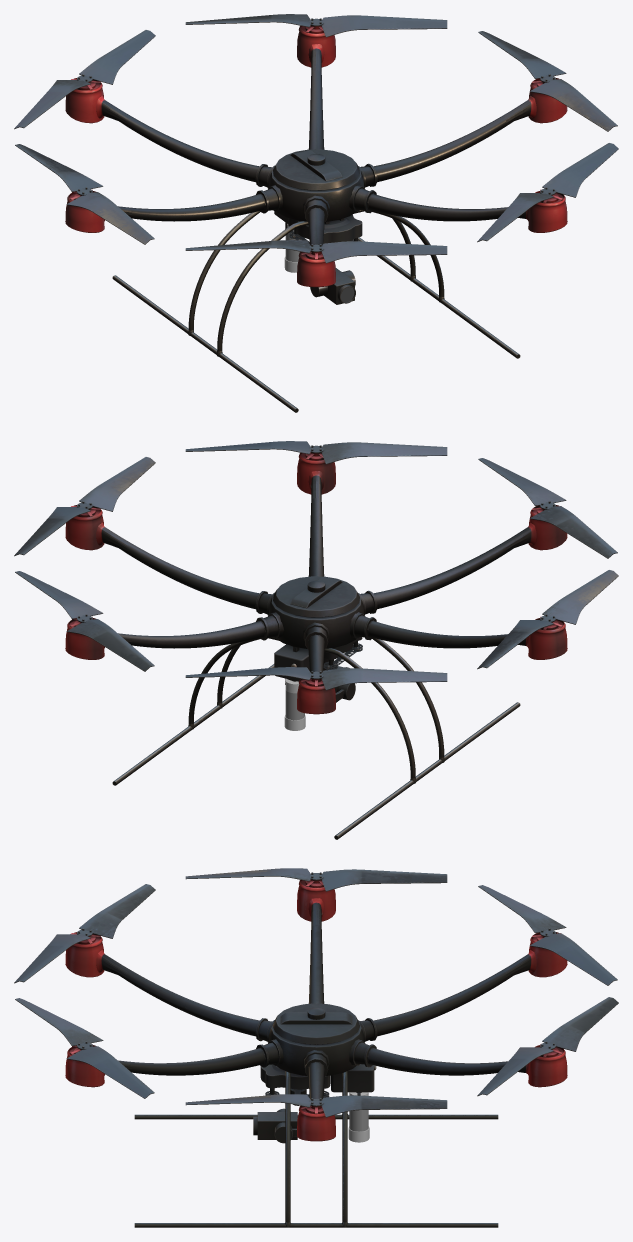
Rendered from drone.glb.
3 renders of one model, top to bottom at view 1: azimuth 30°, elevation 25°; view 2: azimuth 150°, elevation 25°; view 3: azimuth 270°, elevation 25°, orthographic.
Visible parts, largest first — view 1: LJWRJ_F05:separated_16, separated_06, separated_31, separated_81, separated_18, separated_33, separated_15, GLASS:pCylinder1; view 2: LJWRJ_F05:separated_16, separated_33, separated_15, separated_31, separated_06, separated_18, separated_81; view 3: LJWRJ_F05:separated_16, separated_18, separated_81, separated_15, separated_33, separated_31, separated_06, GLASS:pCylinder1.
Boxes of the visible parts, bbox=[...] form: LJWRJ_F05:separated_16: bbox=[65, 25, 567, 412]; separated_06: bbox=[185, 240, 447, 263]; separated_31: bbox=[185, 14, 447, 37]; separated_81: bbox=[15, 144, 154, 244]; separated_18: bbox=[478, 31, 617, 131]; separated_33: bbox=[14, 30, 155, 129]; separated_15: bbox=[477, 143, 618, 242]; GLASS:pCylinder1: bbox=[324, 268, 355, 304]; LJWRJ_F05:separated_16: bbox=[65, 452, 567, 839]; separated_33: bbox=[185, 667, 447, 690]; separated_15: bbox=[185, 441, 447, 464]; separated_31: bbox=[15, 571, 154, 671]; separated_06: bbox=[478, 458, 617, 558]; separated_18: bbox=[14, 457, 155, 556]; separated_81: bbox=[477, 570, 618, 669]; LJWRJ_F05:separated_16: bbox=[65, 879, 567, 1227]; separated_18: bbox=[185, 1094, 447, 1117]; separated_81: bbox=[185, 868, 447, 891]; separated_15: bbox=[15, 998, 154, 1098]; separated_33: bbox=[478, 885, 617, 985]; separated_31: bbox=[477, 997, 618, 1096]; separated_06: bbox=[14, 884, 155, 983]; GLASS:pCylinder1: bbox=[253, 1112, 297, 1139].
Size of the model in its own units: 0.8929 by 0.3142 by 0.9183.
5 materials, 1 textured.
